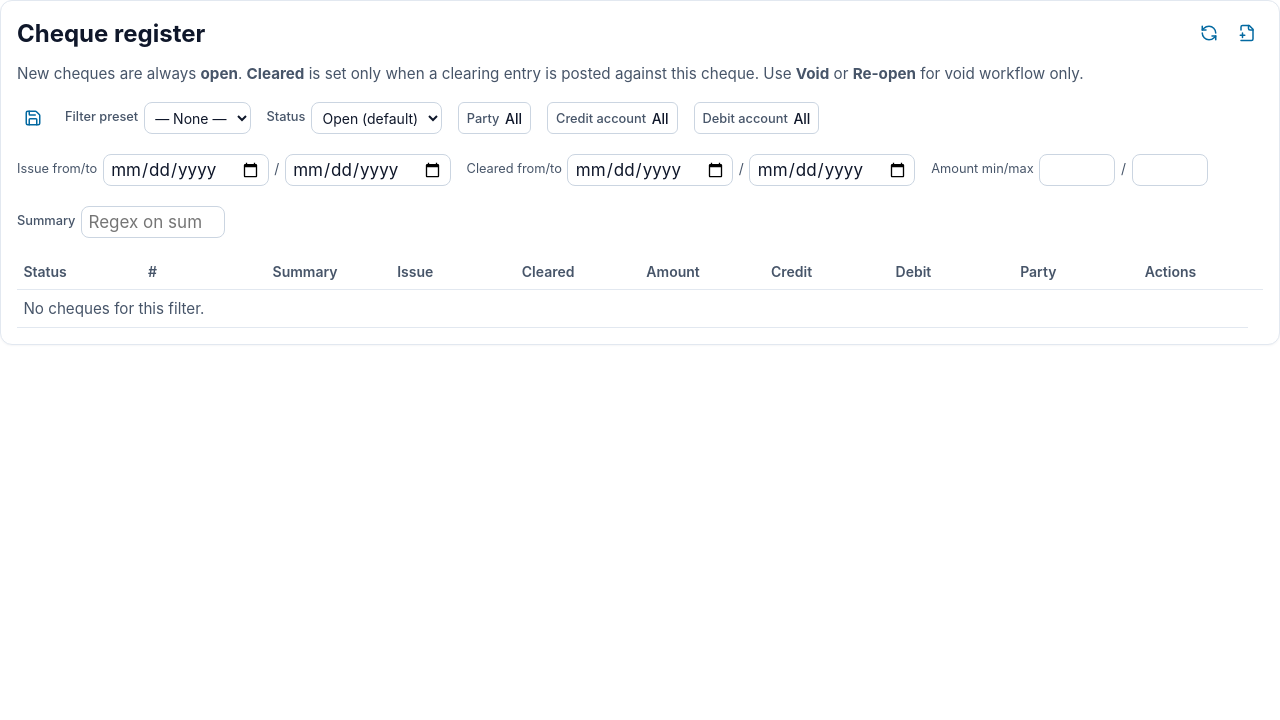
Test: ChequesSection #105 — picker eligibility and last-used defaults › pre-fills new cheque from eligible default accounts
Expected: the table is shown, [17, 254, 1263, 328]
Click the button named "New cheque". click: (1247, 33)
box: [1231, 17, 1263, 49]
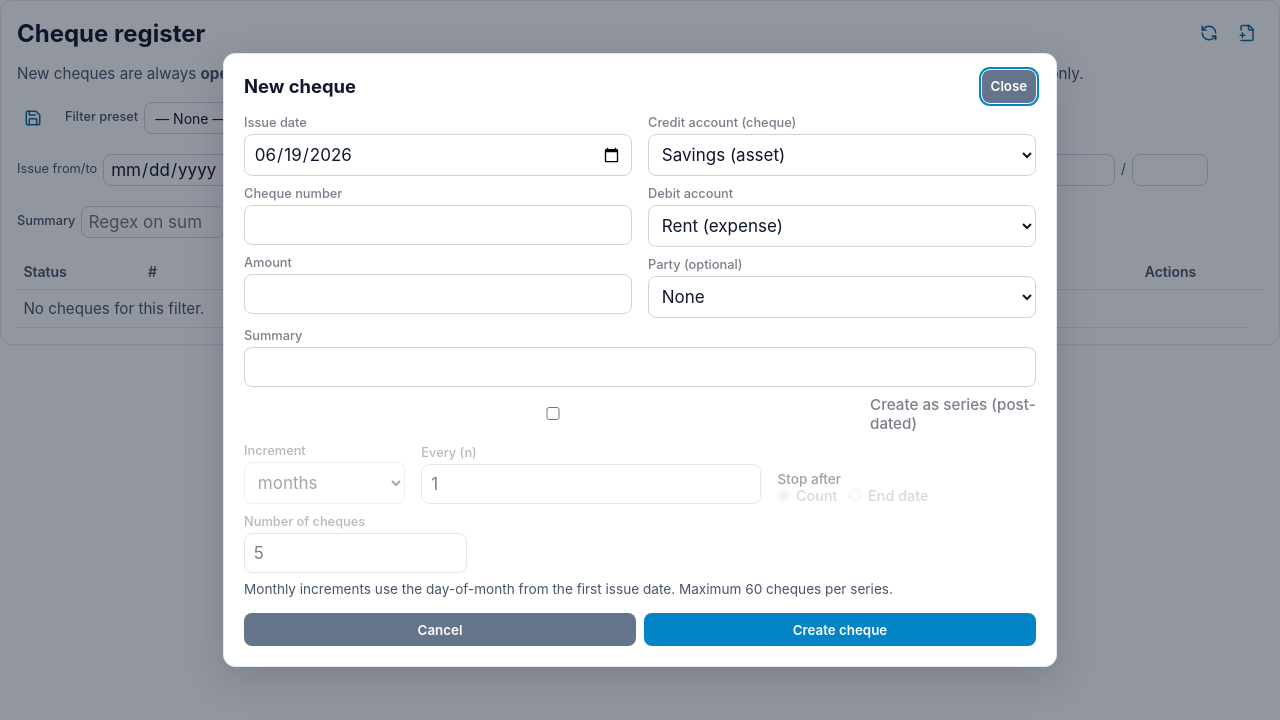
Expected: the dropdown labelled "Credit account (cheque)" shows "Savings (asset)", [648, 134, 1036, 176]
Expected: the dropdown labelled "Debit account" shows "Rent (expense)", [648, 205, 1036, 247]
